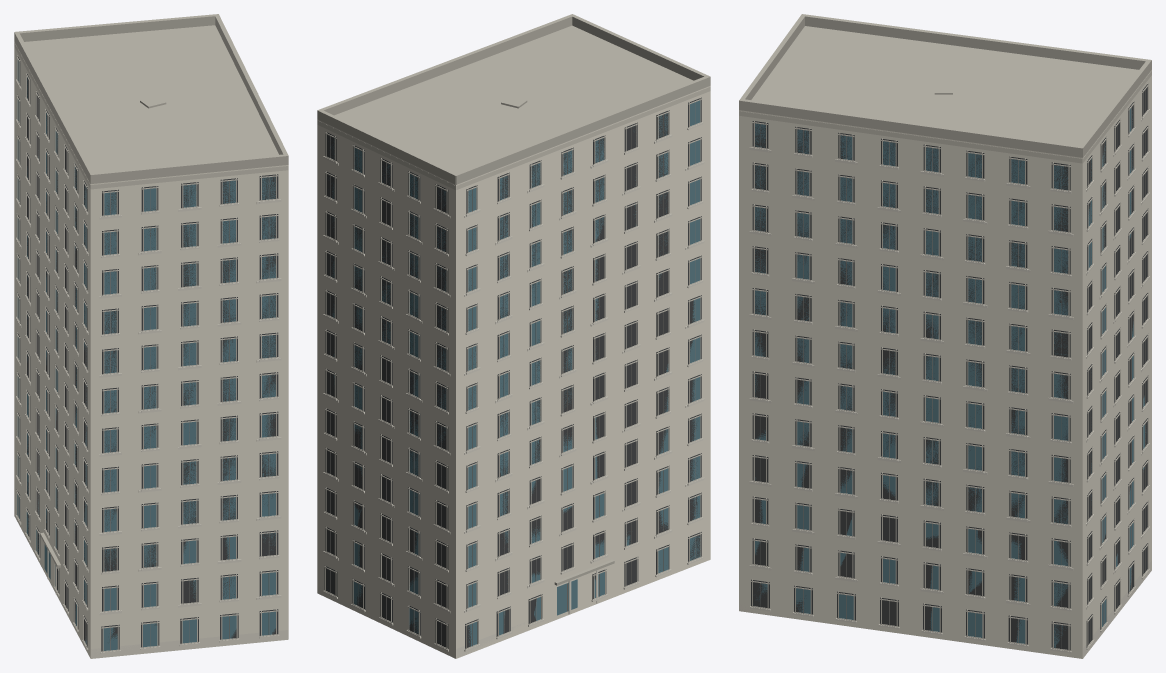
Rendered from cop_hotel_classico_01__way_359363522.fbx.
3 renders of one model, left to right at view 1: azimuth 30°, elevation 25°; view 2: azimuth 150°, elevation 25°; view 3: azimuth 270°, elevation 25°, orthographic. The views are drawn at different scales.
Parts seen in each view (by area): view 1: cop_hotel_classico_01__way_359363522_wall, cop_hotel_classico_01__way_359363522_roof, cop_hotel_classico_01__way_359363522_shadow, cop_hotel_classico_01__way_359363522_glass, cop_hotel_classico_01__way_359363522_trim, cop_hotel_classico_01__way_359363522_stone, cop_hotel_classico_01__way_359363522_metal; view 2: cop_hotel_classico_01__way_359363522_wall, cop_hotel_classico_01__way_359363522_shadow, cop_hotel_classico_01__way_359363522_roof, cop_hotel_classico_01__way_359363522_trim, cop_hotel_classico_01__way_359363522_glass, cop_hotel_classico_01__way_359363522_stone, cop_hotel_classico_01__way_359363522_metal; view 3: cop_hotel_classico_01__way_359363522_wall, cop_hotel_classico_01__way_359363522_roof, cop_hotel_classico_01__way_359363522_shadow, cop_hotel_classico_01__way_359363522_glass, cop_hotel_classico_01__way_359363522_trim, cop_hotel_classico_01__way_359363522_stone, cop_hotel_classico_01__way_359363522_metal.
Boxes of the visible parts, x1,y1,x2,y2 form: cop_hotel_classico_01__way_359363522_wall: (14, 41, 288, 658); cop_hotel_classico_01__way_359363522_roof: (14, 14, 288, 567); cop_hotel_classico_01__way_359363522_shadow: (16, 56, 278, 651); cop_hotel_classico_01__way_359363522_glass: (17, 59, 275, 650); cop_hotel_classico_01__way_359363522_trim: (14, 42, 288, 652); cop_hotel_classico_01__way_359363522_stone: (14, 79, 288, 658); cop_hotel_classico_01__way_359363522_metal: (18, 61, 269, 650); cop_hotel_classico_01__way_359363522_wall: (317, 86, 710, 658); cop_hotel_classico_01__way_359363522_shadow: (324, 97, 701, 649); cop_hotel_classico_01__way_359363522_roof: (317, 14, 710, 585); cop_hotel_classico_01__way_359363522_trim: (317, 87, 710, 649); cop_hotel_classico_01__way_359363522_glass: (326, 100, 700, 646); cop_hotel_classico_01__way_359363522_stone: (317, 122, 708, 658); cop_hotel_classico_01__way_359363522_metal: (330, 102, 695, 646); cop_hotel_classico_01__way_359363522_wall: (739, 70, 1151, 658); cop_hotel_classico_01__way_359363522_roof: (739, 14, 1151, 157); cop_hotel_classico_01__way_359363522_shadow: (751, 84, 1148, 650); cop_hotel_classico_01__way_359363522_glass: (755, 108, 1146, 647); cop_hotel_classico_01__way_359363522_trim: (739, 71, 1151, 651); cop_hotel_classico_01__way_359363522_stone: (739, 109, 1151, 658); cop_hotel_classico_01__way_359363522_metal: (760, 90, 1145, 648).
Bounding box in the file's own units: 2072 × 3669 × 2688.
